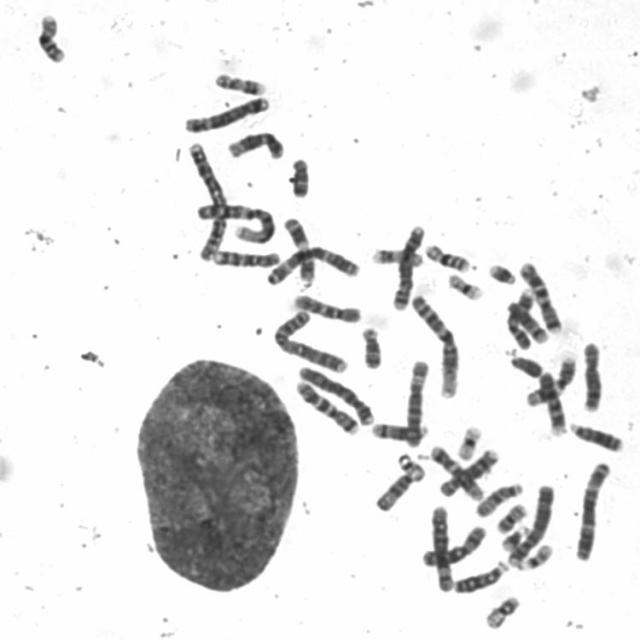A1: (408, 291, 461, 400), (193, 199, 276, 246)
A2: (183, 139, 230, 263), (270, 306, 350, 374)
A3: (263, 243, 362, 287), (572, 458, 612, 560)
B4: (294, 362, 376, 429), (502, 480, 554, 570)
B5: (181, 93, 273, 134), (389, 222, 428, 312)
C10: (289, 291, 363, 324), (208, 246, 282, 269)
C11: (523, 357, 578, 407), (280, 213, 316, 288)
C12: (426, 442, 484, 501), (224, 128, 285, 161)
C6: (402, 356, 430, 446), (427, 503, 454, 593)
C7: (293, 376, 361, 437), (516, 258, 564, 334)
C8: (433, 447, 501, 500), (579, 338, 604, 413)
C9: (535, 369, 568, 437), (505, 287, 537, 350)
D13: (450, 558, 508, 594), (566, 419, 624, 454)
D14: (504, 297, 548, 345), (367, 419, 427, 447)
D15: (372, 467, 419, 512), (472, 480, 526, 518)
E16: (35, 11, 67, 64), (422, 240, 473, 273)
E17: (211, 69, 267, 97), (370, 244, 424, 269)
E18: (285, 156, 313, 200), (358, 324, 384, 370)
F19: (444, 270, 484, 302), (453, 423, 484, 460)
F20: (483, 595, 521, 631), (492, 500, 529, 534)
G21: (498, 523, 530, 553), (485, 260, 519, 287)
G22: (518, 541, 554, 571), (395, 450, 427, 480)
X: (417, 522, 488, 568)
Y: (508, 352, 544, 378)
